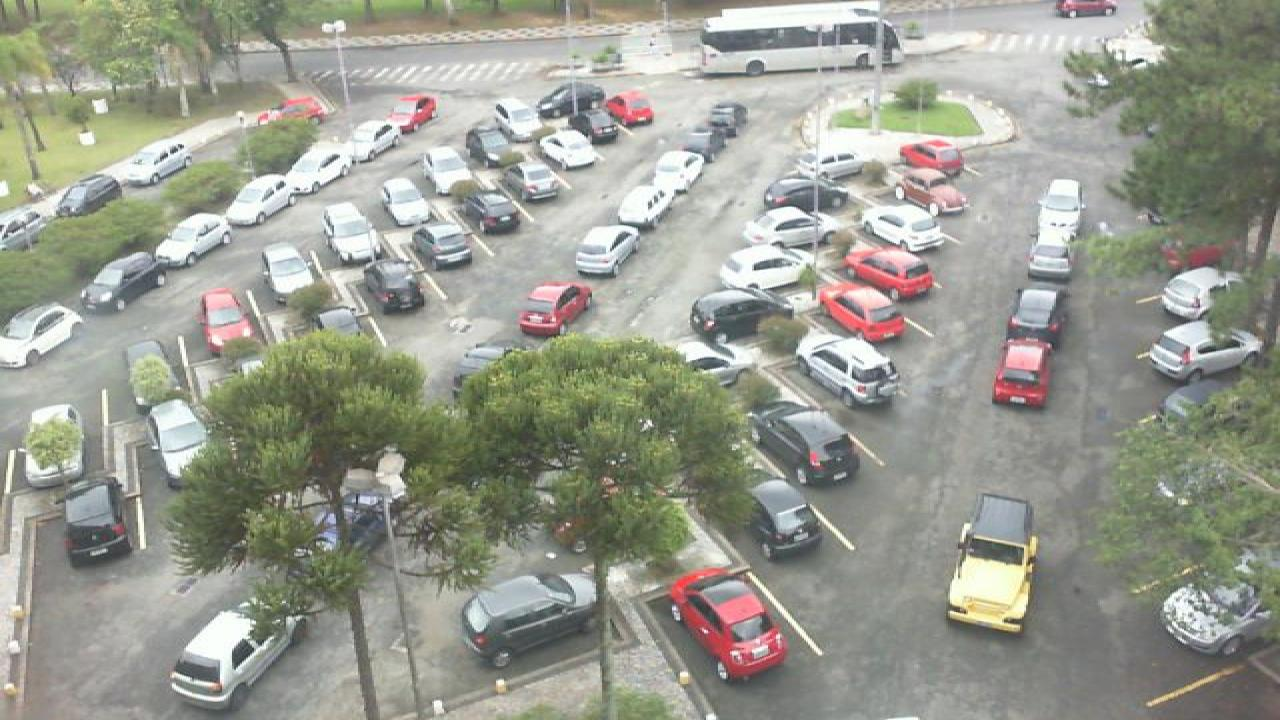Car: (166, 603, 304, 711), (664, 566, 788, 681), (456, 572, 602, 668), (946, 492, 1040, 634), (748, 398, 862, 490), (1156, 574, 1274, 658), (796, 331, 900, 408), (1148, 318, 1262, 380), (56, 479, 136, 567), (746, 479, 826, 564), (144, 397, 212, 487), (20, 402, 88, 492), (0, 300, 86, 370), (814, 286, 910, 345), (78, 251, 166, 314), (688, 289, 794, 341), (716, 244, 816, 296), (846, 244, 934, 302), (152, 213, 238, 270), (1160, 264, 1242, 320), (516, 281, 594, 339), (220, 172, 302, 227), (858, 205, 948, 254), (356, 253, 428, 314), (740, 206, 838, 250), (990, 340, 1050, 411), (570, 223, 648, 277), (198, 286, 256, 356), (896, 166, 972, 219), (614, 176, 690, 229), (1002, 286, 1064, 346), (500, 154, 574, 203), (672, 339, 746, 387), (760, 177, 852, 215), (320, 201, 378, 261), (458, 186, 524, 238), (410, 220, 476, 270), (302, 290, 366, 341), (284, 142, 358, 186), (1034, 176, 1086, 238), (118, 142, 192, 185), (54, 175, 124, 220), (1024, 225, 1078, 283), (452, 343, 514, 392), (260, 242, 314, 297), (538, 128, 604, 172), (786, 150, 866, 184), (644, 150, 708, 192), (252, 94, 330, 128), (378, 177, 430, 227), (534, 81, 608, 116), (420, 146, 476, 192), (344, 119, 408, 159), (460, 122, 518, 166), (898, 140, 964, 178), (564, 107, 626, 146), (382, 92, 440, 133), (488, 100, 546, 140), (676, 125, 730, 164), (0, 207, 48, 250), (600, 91, 656, 127), (700, 101, 748, 133)
